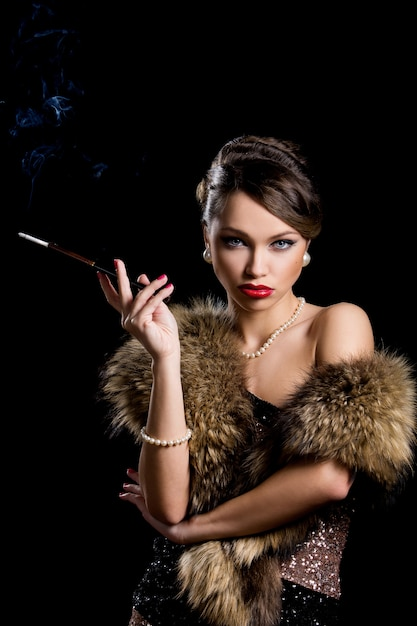cigarette: (14, 232, 49, 250)
